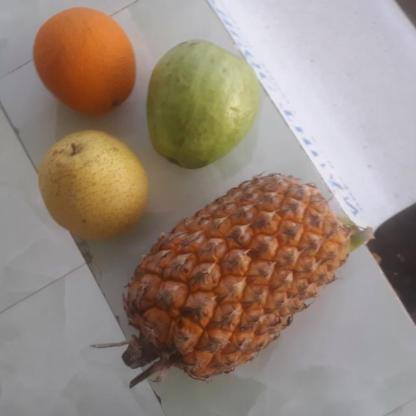guava: (148, 40, 263, 167)
orange: (31, 6, 141, 113)
pear: (37, 129, 152, 238)
pineapple: (129, 172, 349, 375)
